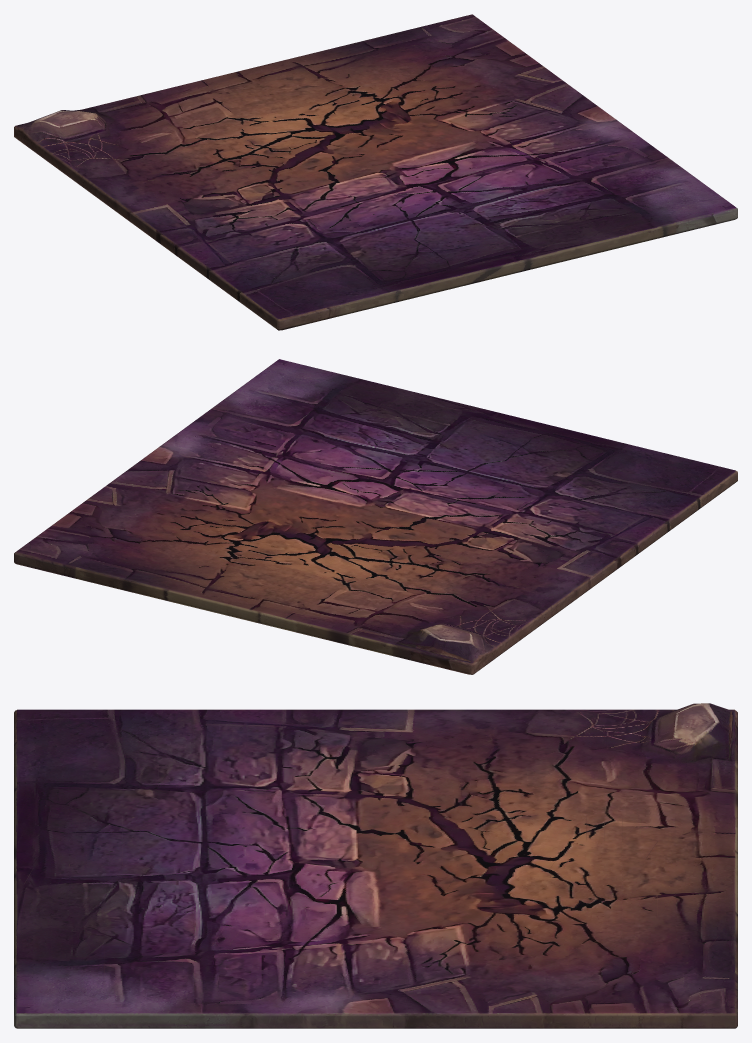
Rendered from Meshy_AI_Cracked_Stone_Corrido_0617133059_texture.fbx.
3 renders of one model, top to bottom at view 1: azimuth 30°, elevation 25°; view 2: azimuth 150°, elevation 25°; view 3: azimuth 270°, elevation 25°, orthographic. The views are drawn at different scales.
Visible parts, largest first — view 1: Mesh_0; view 2: Mesh_0; view 3: Mesh_0.
Part boxes in pixels (bbox=[...]): Mesh_0: bbox=[14, 14, 737, 330]; Mesh_0: bbox=[14, 359, 737, 674]; Mesh_0: bbox=[14, 703, 737, 1028].
Size of the model in its own units: 190 by 9 by 191.
Materials: 1 (1 with a texture image).
